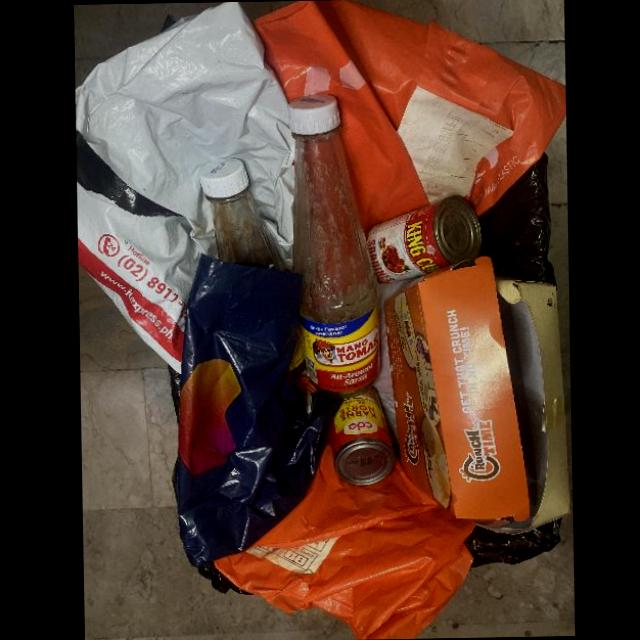carton: (383, 256, 571, 534)
chai_thuy_tinh: (289, 94, 378, 394), (199, 158, 283, 271)
nhom: (367, 195, 479, 284), (329, 386, 395, 486)
tui_ni_long: (75, 1, 296, 376), (253, 0, 566, 231), (174, 254, 343, 572), (214, 448, 476, 639)
